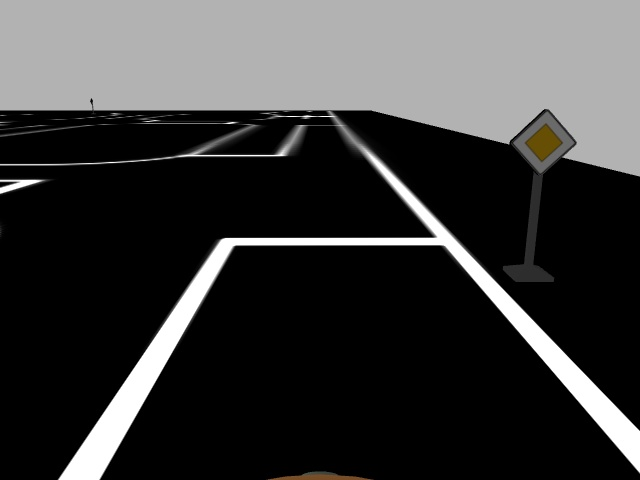priority: (508, 108, 577, 175)
